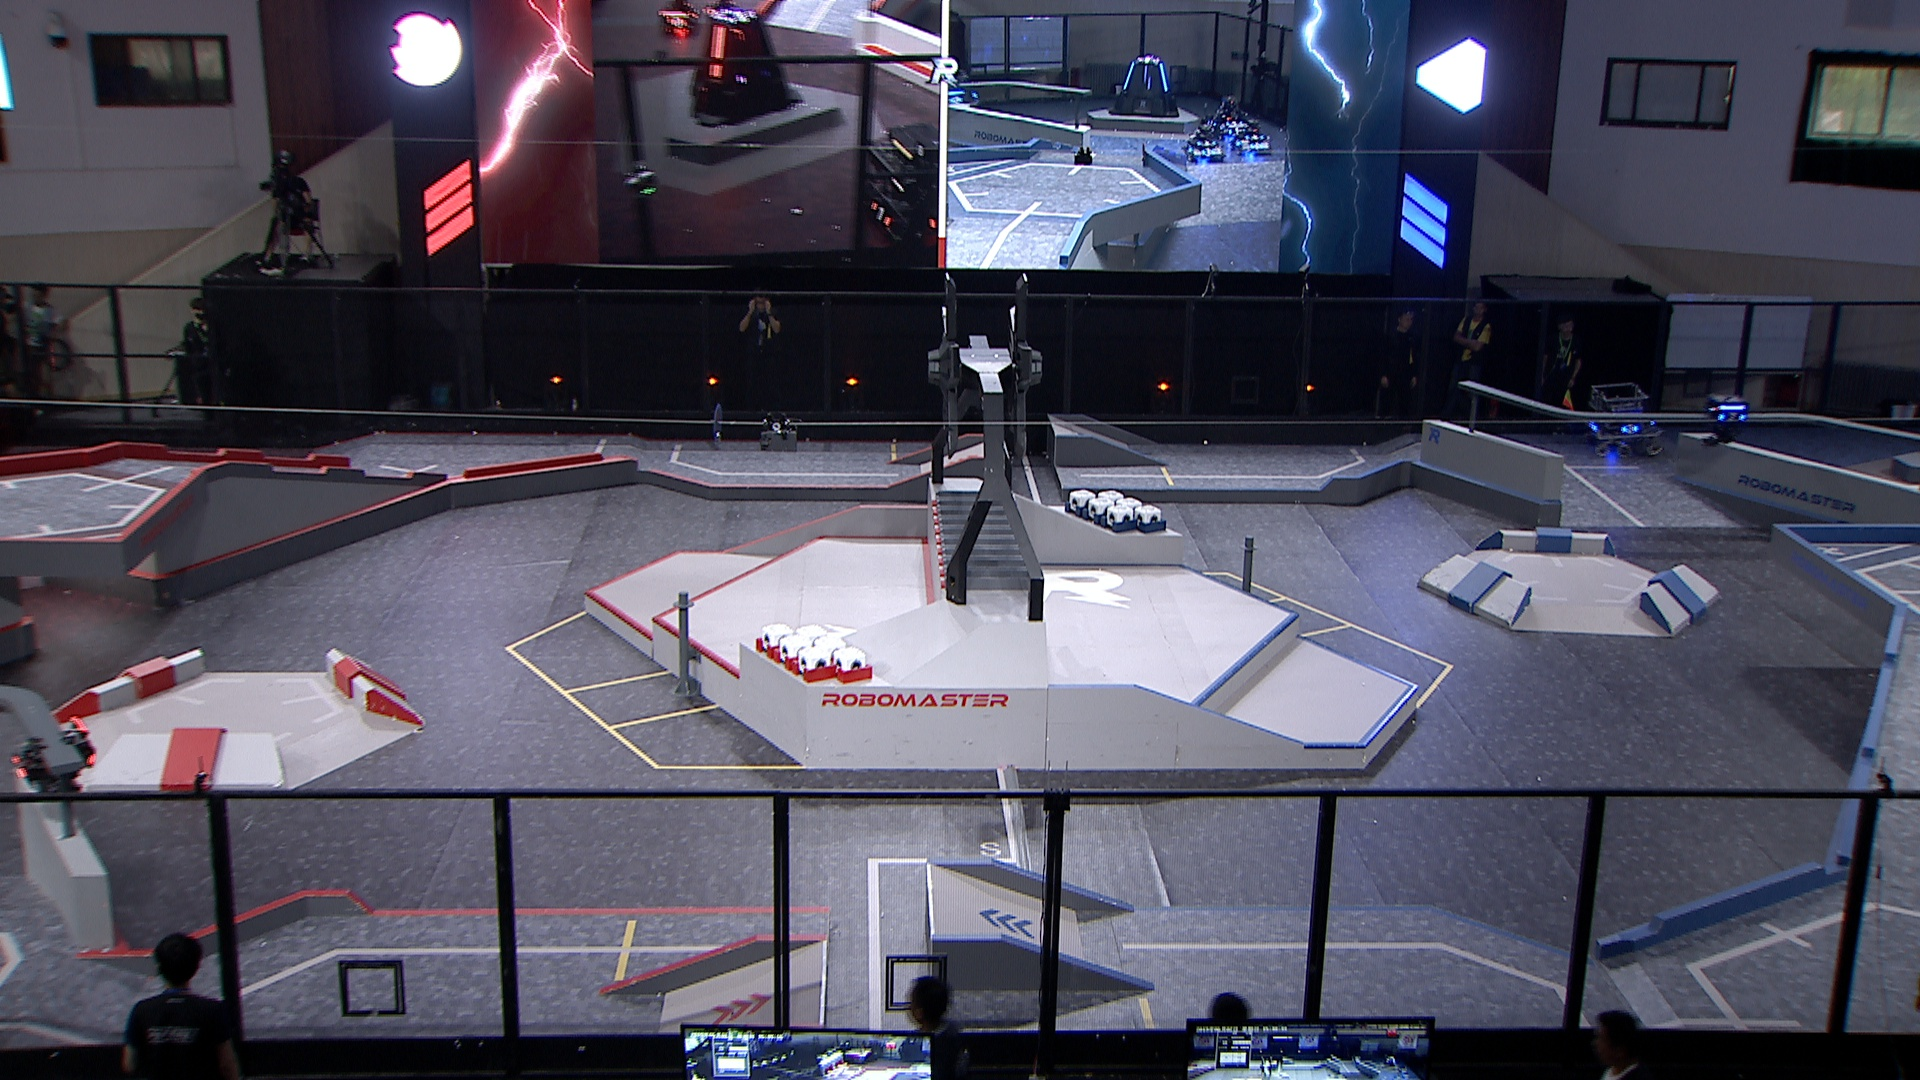armor: (7, 756, 26, 783), (1717, 411, 1747, 425), (1622, 422, 1640, 436)
car: (1585, 380, 1667, 458)
ignore: (688, 0, 804, 131), (858, 119, 942, 244), (1105, 54, 1182, 117), (1203, 98, 1251, 138), (1183, 123, 1228, 166), (655, 0, 700, 36), (945, 69, 982, 109), (1229, 121, 1271, 157)
watcher: (3, 716, 98, 802), (1698, 392, 1756, 450)
